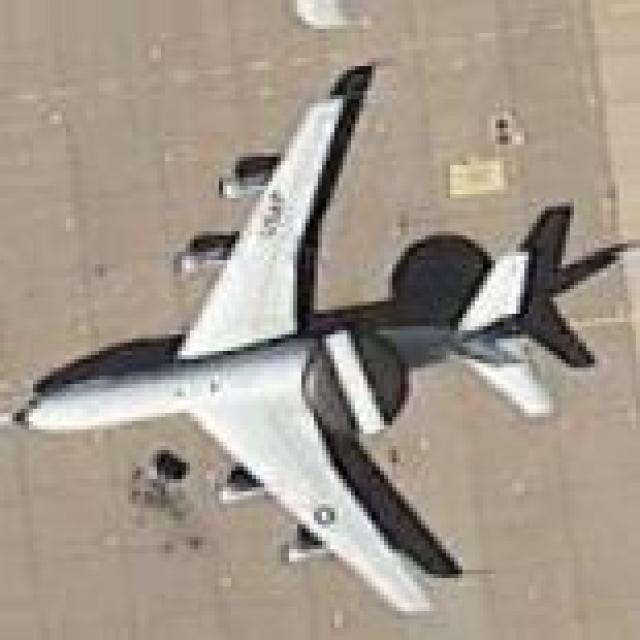E-3_TopDown: (8, 58, 636, 615)
